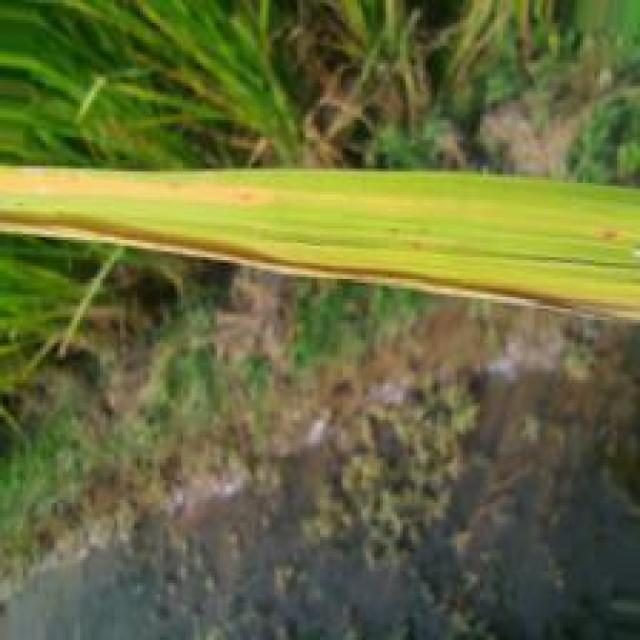Bacterial_Leaf_Blight: (0, 215, 640, 319), (0, 170, 275, 206), (599, 231, 622, 244)
